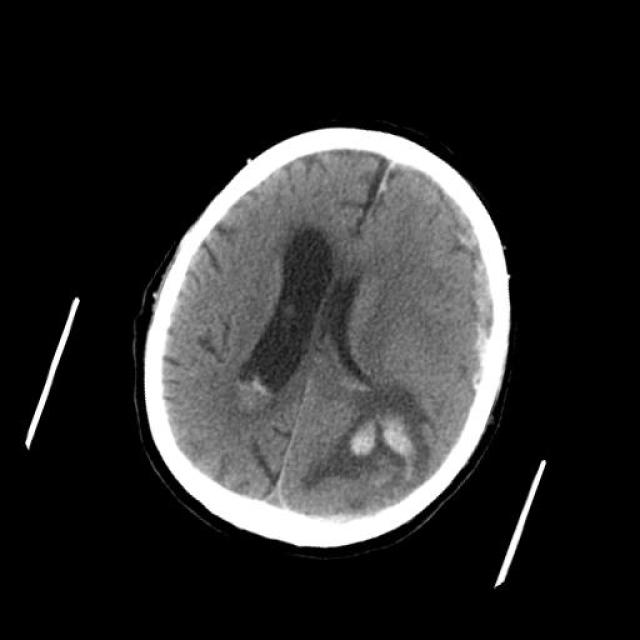Intraparenchymal: (321, 380, 448, 490)
Intraventricular: (208, 334, 339, 472)
Subdural: (356, 174, 564, 398)
